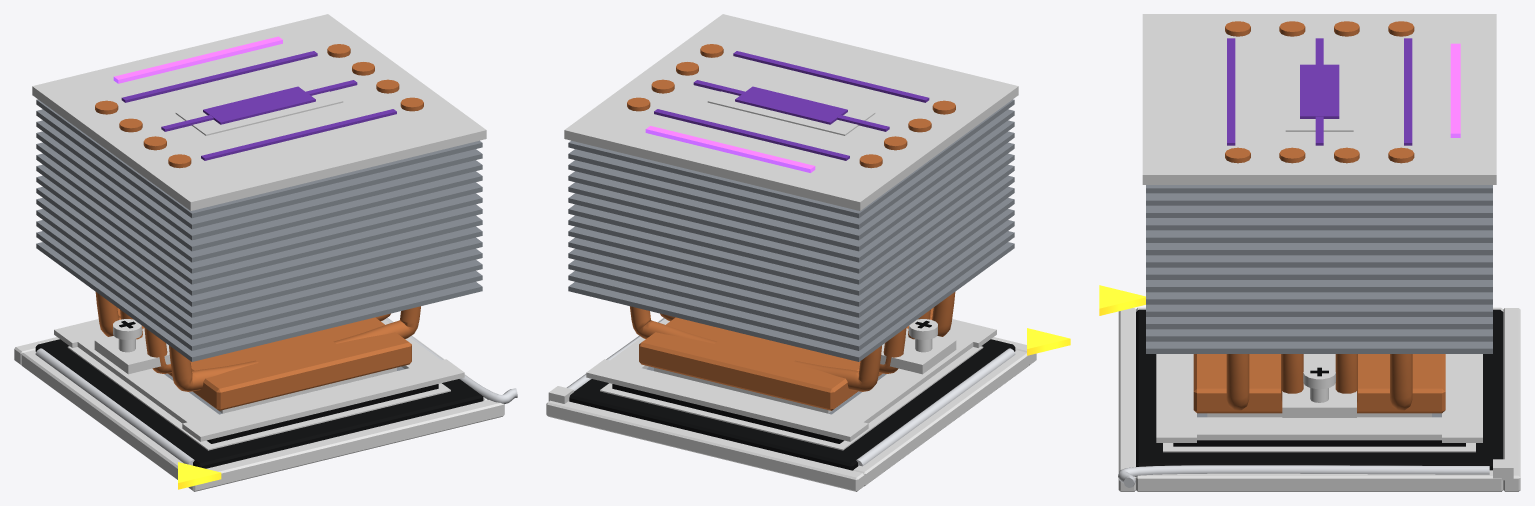
File: hwm_cpu_xeon_w5_3435x.glb
3 views of the same model, side by side, from view 1: azimuth 30°, elevation 25°; view 2: azimuth 150°, elevation 25°; view 3: azimuth 270°, elevation 25° (orthographic). The views are drawn at different scales.
Visible parts, largest first — view 1: Cooler, Socket, Frame, CPU, Screw_0, Lever; view 2: Cooler, Socket, Frame, CPU, Screw_0; view 3: Cooler, Socket, Frame, Lever, CPU, Screw_1.
Boxes of the visible parts, left/top/right/bottom form: Cooler: left=32, top=14, right=486, bottom=410; Socket: left=14, top=320, right=504, bottom=491; Frame: left=54, top=319, right=464, bottom=441; CPU: left=164, top=366, right=438, bottom=443; Screw_0: left=113, top=319, right=141, bottom=352; Lever: left=385, top=317, right=517, bottom=403; Cooler: left=564, top=14, right=1018, bottom=410; Socket: left=546, top=317, right=1070, bottom=491; Frame: left=586, top=319, right=996, bottom=441; CPU: left=612, top=366, right=886, bottom=443; Screw_0: left=909, top=319, right=937, bottom=352; Cooler: left=1142, top=14, right=1496, bottom=417; Socket: left=1099, top=285, right=1520, bottom=491; Frame: left=1156, top=354, right=1482, bottom=442; Lever: left=1118, top=465, right=1489, bottom=487; CPU: left=1173, top=413, right=1465, bottom=446; Screw_1: left=1303, top=365, right=1335, bottom=402.
Bounding box in the file's own units: 0.1338 × 0.1035 × 0.1239.
